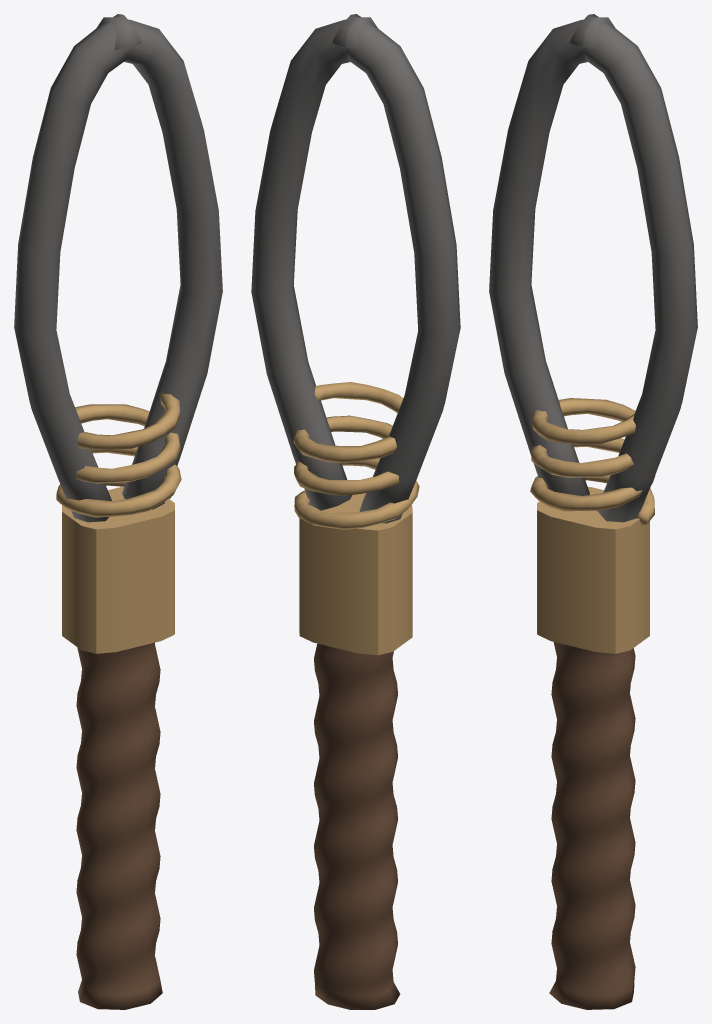
The model's file is gnome-pincher.glb.
3 views of the same model, side by side, from view 1: azimuth 30°, elevation 25°; view 2: azimuth 150°, elevation 25°; view 3: azimuth 330°, elevation 25° (orthographic).
Visible parts, largest first — view 1: gnome-pincher; view 2: gnome-pincher; view 3: gnome-pincher.
Part boxes in pixels (<box>): gnome-pincher: <box>14,14,222,1009</box>; gnome-pincher: <box>251,14,460,1009</box>; gnome-pincher: <box>489,14,697,1009</box>.
Bounding box in the file's own units: 0.1719 × 0.785 × 0.0925.
